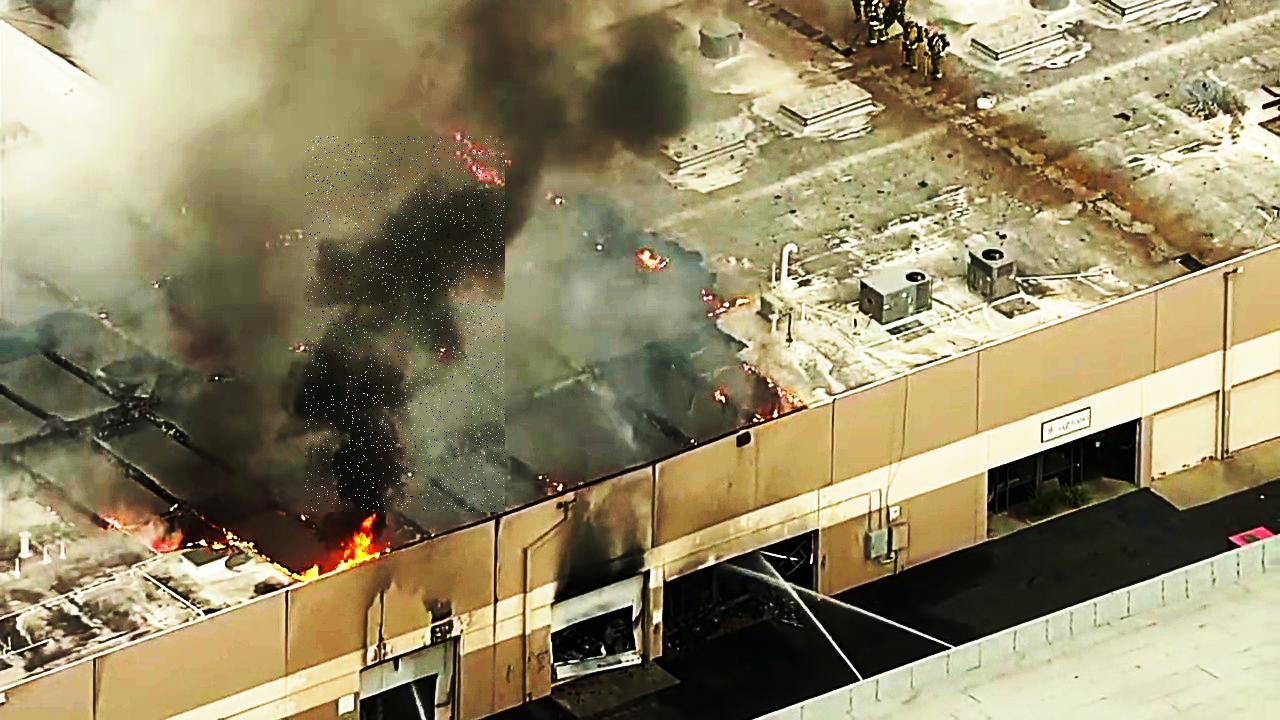smoke: (305, 136, 505, 512)
